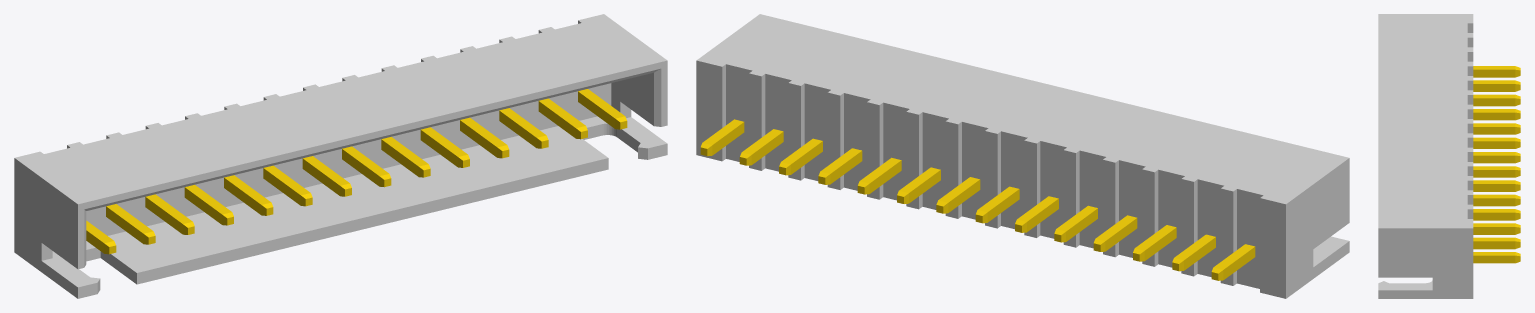
File: DS1069-14 CWF-14.obj
The picture shows the model from 3 angles, left to right: view 1: azimuth 30°, elevation 25°; view 2: azimuth 150°, elevation 25°; view 3: azimuth 270°, elevation 25°; orthographic projection. The views are drawn at different scales.
Visible parts, largest first — view 1: DS1069-14_CWF-14; view 2: DS1069-14_CWF-14; view 3: DS1069-14_CWF-14.
Part boxes in pixels (bbox=[...]): DS1069-14_CWF-14: bbox=[14, 14, 667, 298]; DS1069-14_CWF-14: bbox=[696, 14, 1349, 298]; DS1069-14_CWF-14: bbox=[1378, 14, 1520, 298].
Size of the model in its own units: 0.0274 by 0.0042 by 0.00767.
